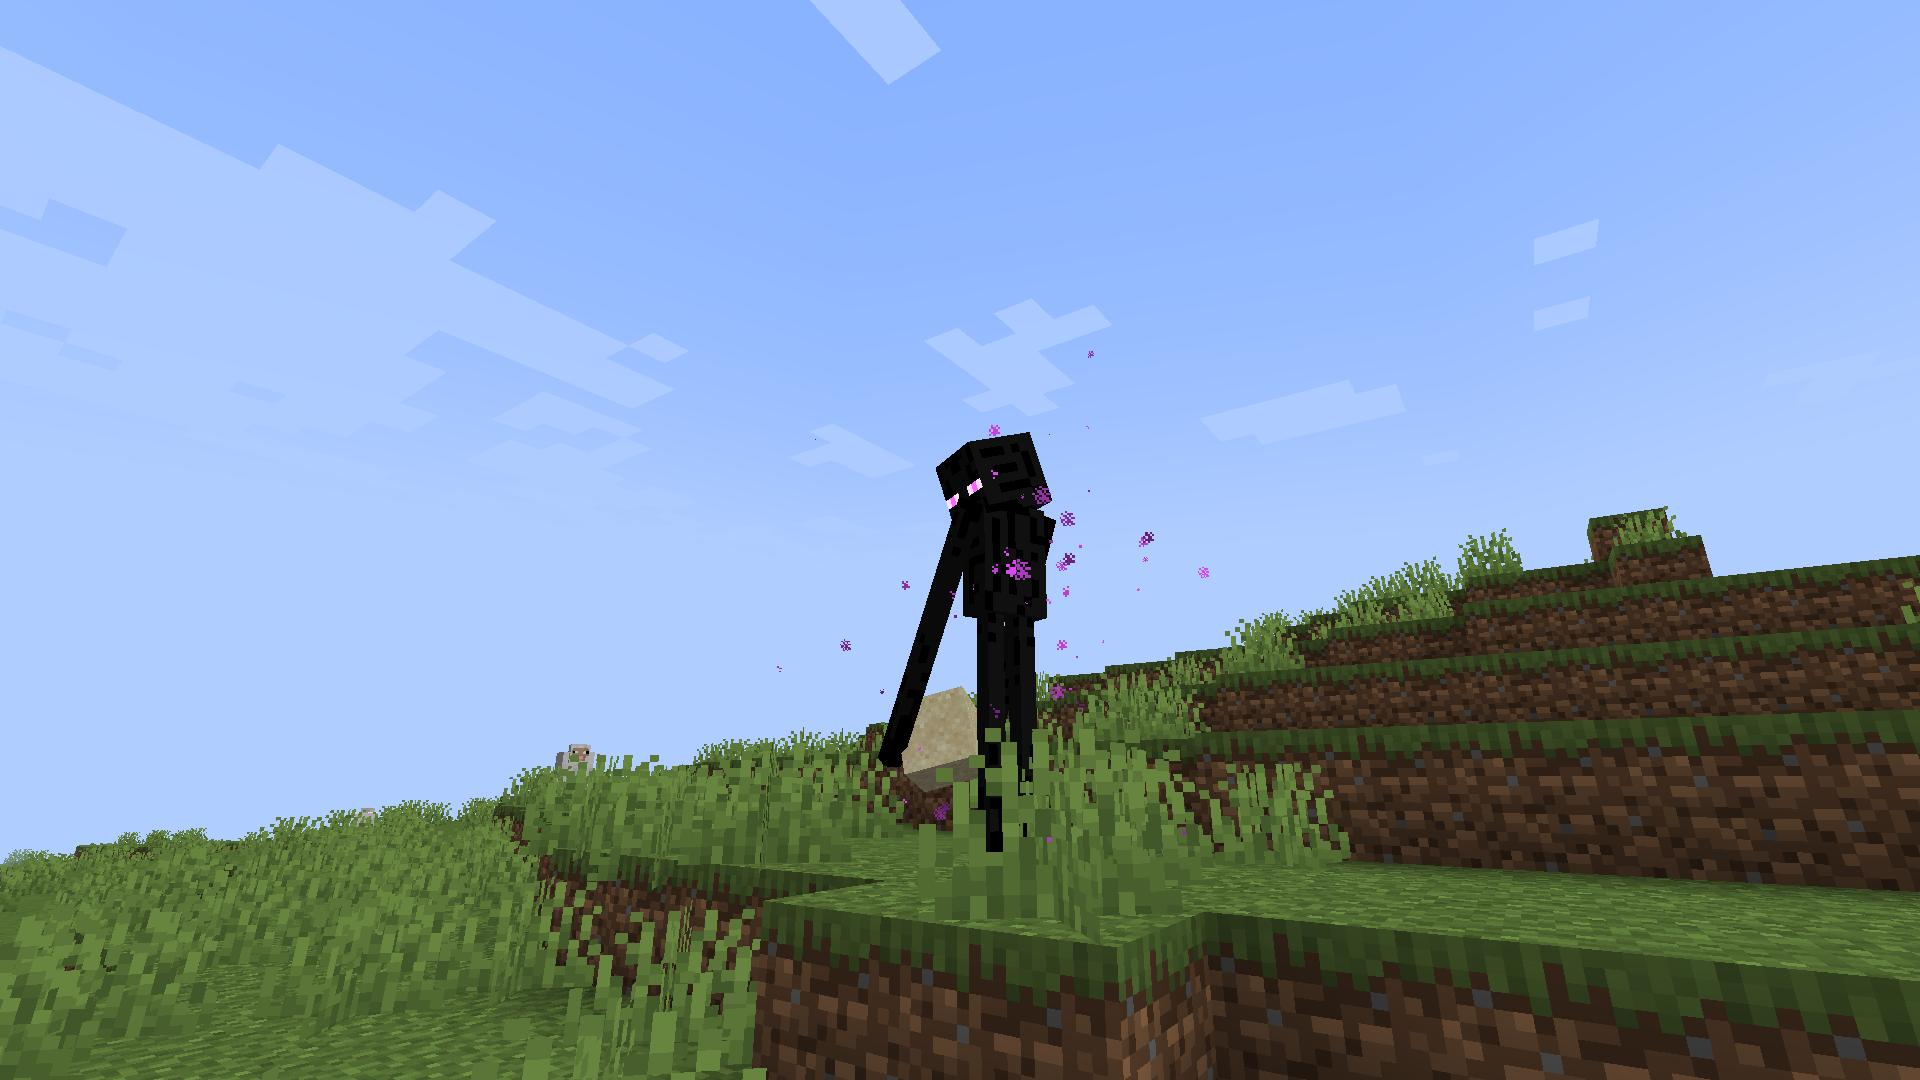enderman: (866, 426, 1060, 856)
